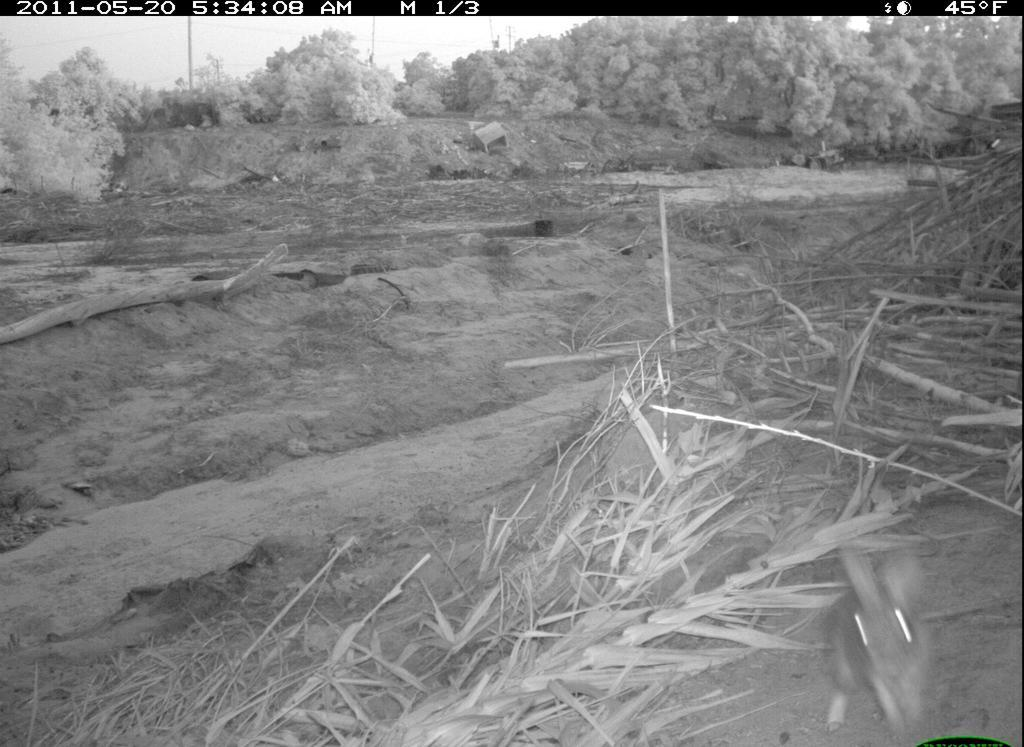rabbit: (794, 522, 955, 747)
